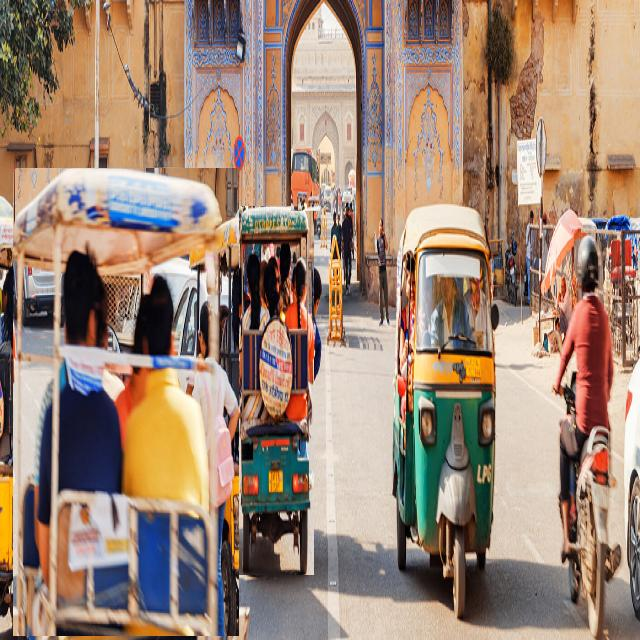autorickshaw: (14, 168, 239, 636), (392, 206, 499, 618), (238, 206, 314, 575), (0, 195, 32, 637)
bus: (291, 150, 320, 211)
motorcycle: (552, 236, 620, 639)
